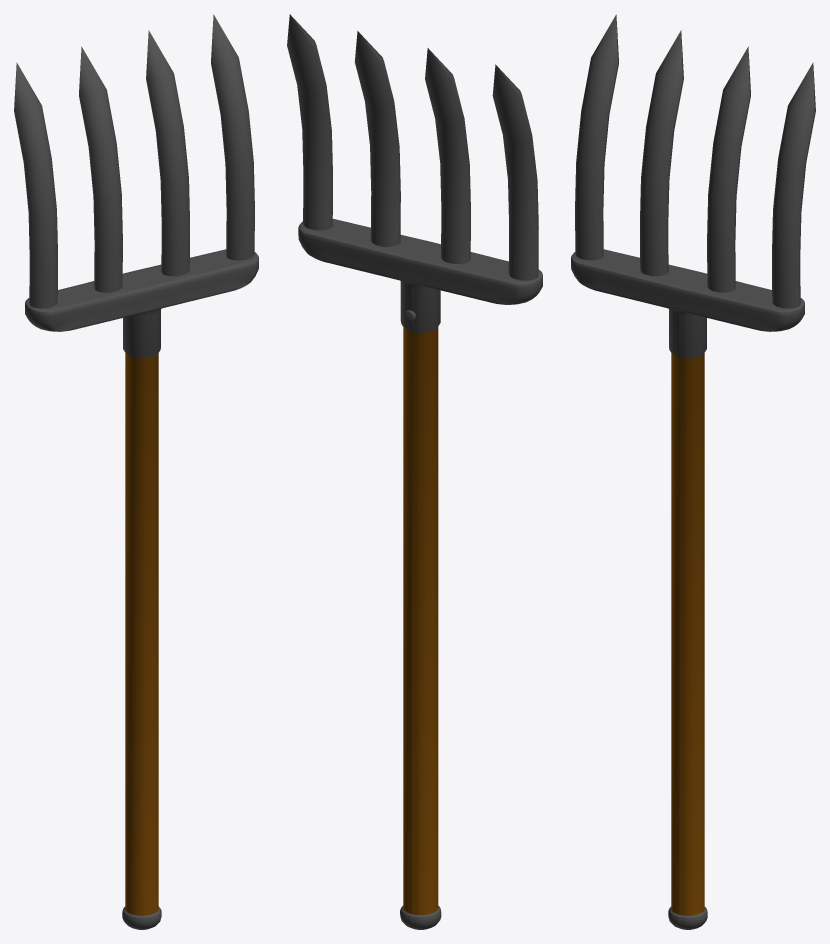
File: Fork.fbx
The picture shows the model from 3 angles, left to right: view 1: azimuth 30°, elevation 25°; view 2: azimuth 150°, elevation 25°; view 3: azimuth 330°, elevation 25°; orthographic projection. The views are drawn at different scales.
Parts seen in each view (by area): view 1: Fork; view 2: Fork; view 3: Fork.
Part boxes in pixels (<box>): Fork: <box>14,14,258,929</box>; Fork: <box>287,14,542,929</box>; Fork: <box>571,14,815,929</box>.
Size of the model in its own units: 76.25 by 278 by 22.32.
